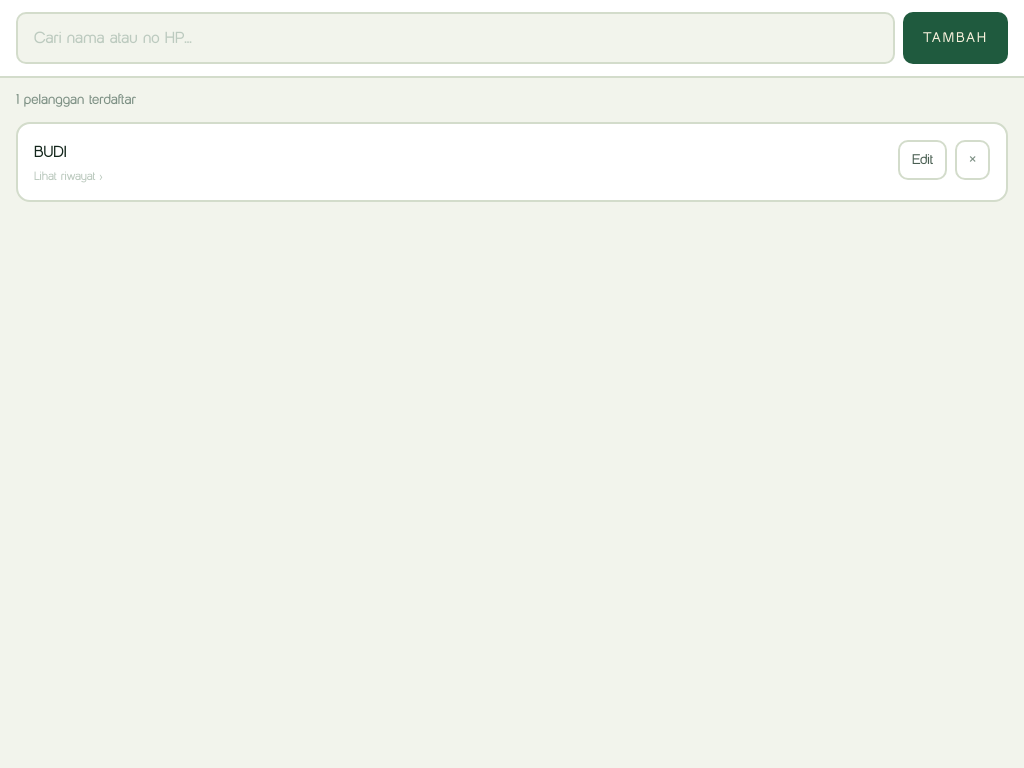
Test: PelangganPage › shows delete confirm modal when × clicked
Step 1. Click the button "×" → (973, 160), box 955,140 -> 990,180
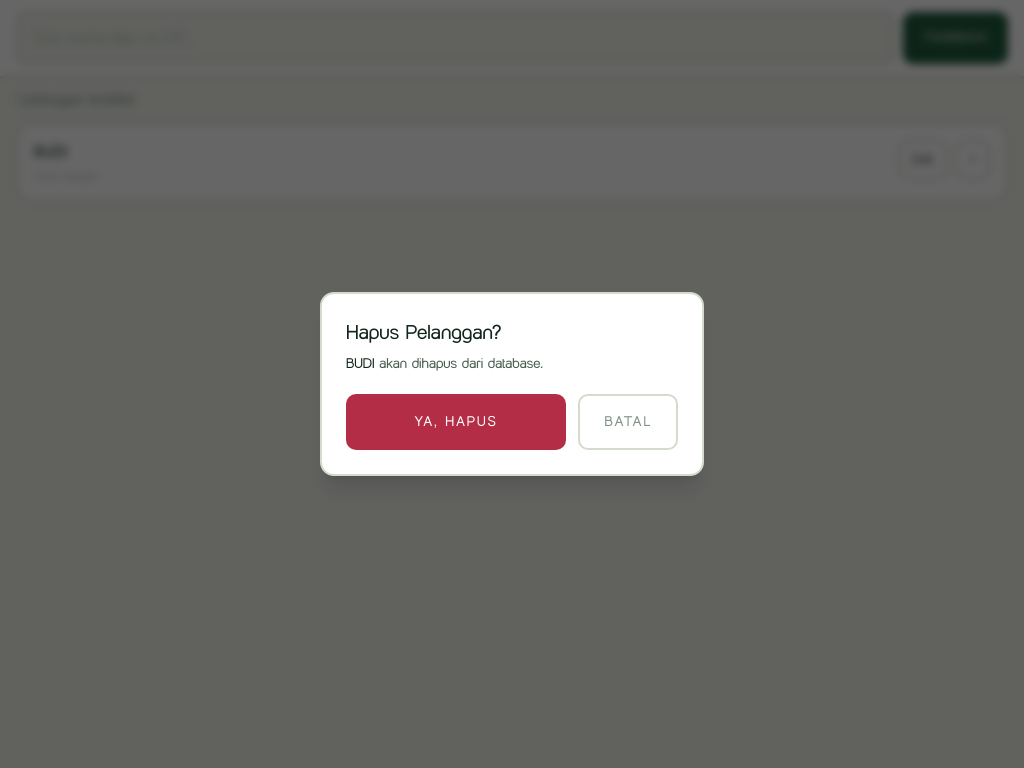
Expected: the heading "Hapus Pelanggan?" is shown, 346,320 -> 502,344
